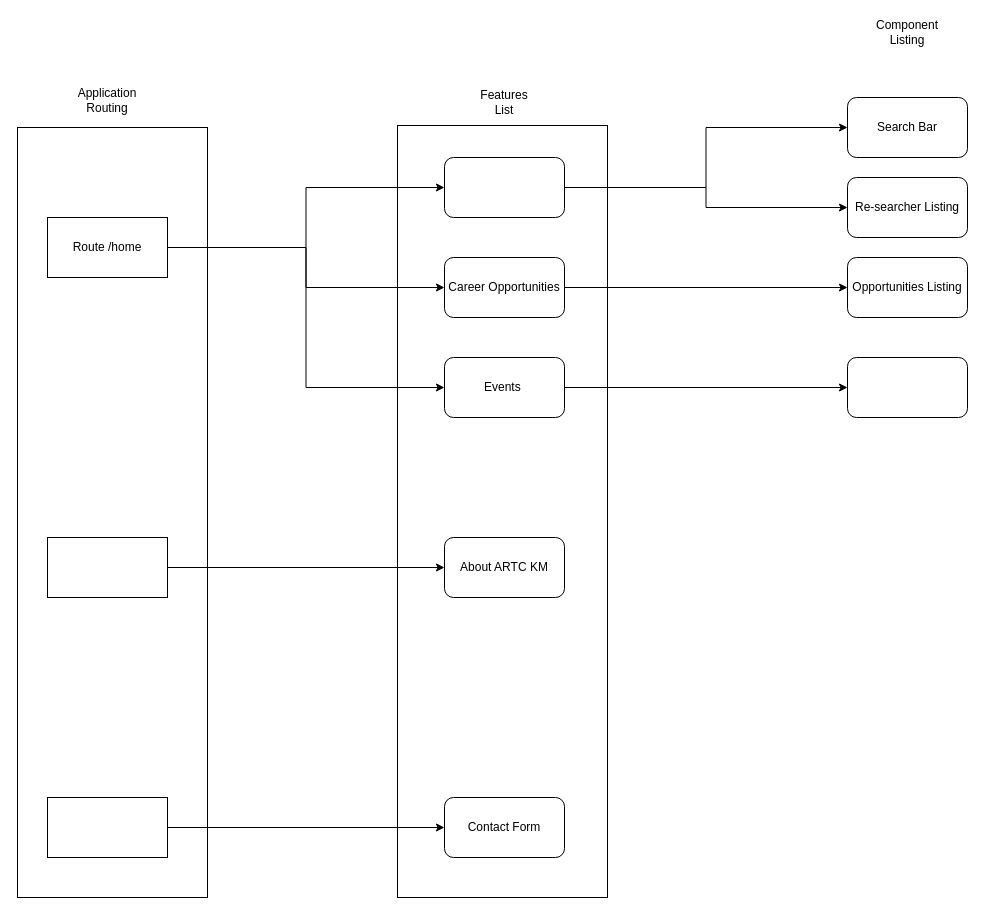
The diagram is 985 pixels wide and 915 high, and some of its shapes have lost their labels. Each missing label, with the centre of its shape:
"Event Slider" goes at [907,387].
"Find Re-seachers" goes at [504,187].
"Route /About" goes at [107,567].
"Route /contacts-us" goes at [107,827].
